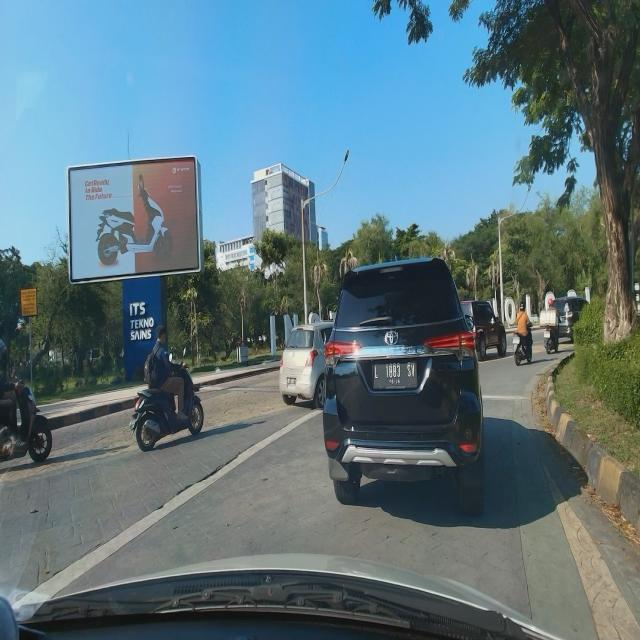car: (320, 253, 488, 519)
license-plate: (373, 361, 417, 388)
